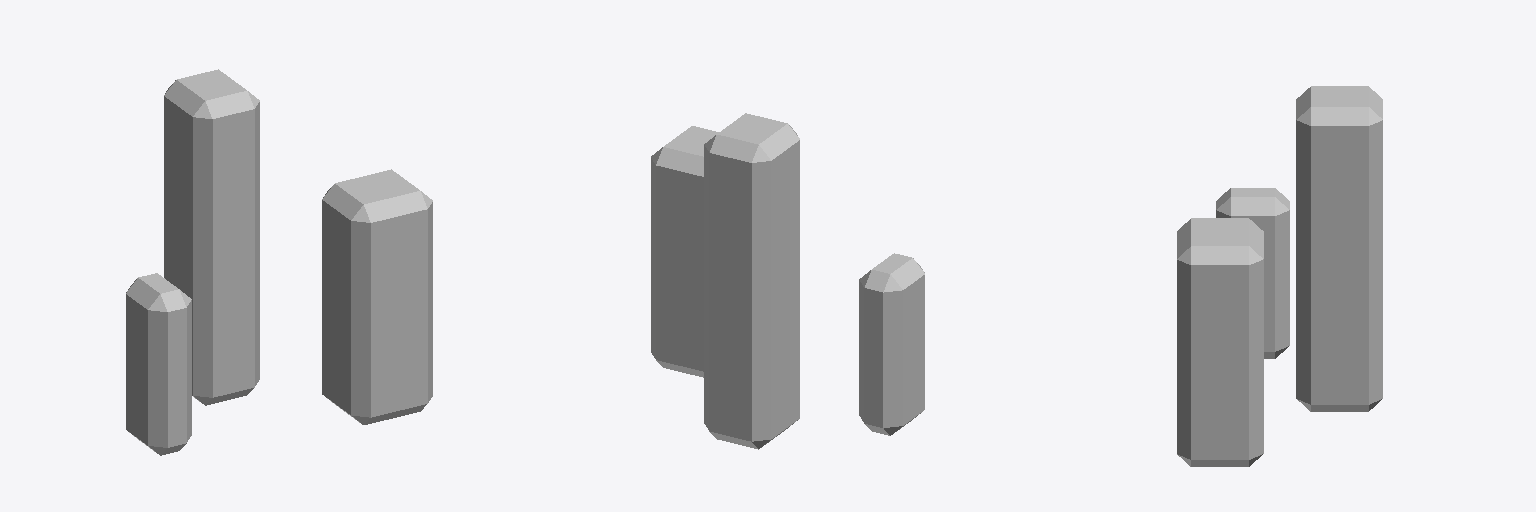
Rendered from Grass_Small.obj.
3 views of the same model, side by side, from view 1: azimuth 30°, elevation 25°; view 2: azimuth 150°, elevation 25°; view 3: azimuth 270°, elevation 25° (orthographic).
Visible parts, largest first — view 1: Grass_Small_Cube.085; view 2: Grass_Small_Cube.085; view 3: Grass_Small_Cube.085.
Boxes of the visible parts, x1=… form: Grass_Small_Cube.085: x1=126, y1=69, x2=432, y2=455; Grass_Small_Cube.085: x1=651, y1=113, x2=924, y2=449; Grass_Small_Cube.085: x1=1177, y1=86, x2=1382, y2=466.
Size of the model in its own units: 0.6327 by 0.6941 by 0.4265.